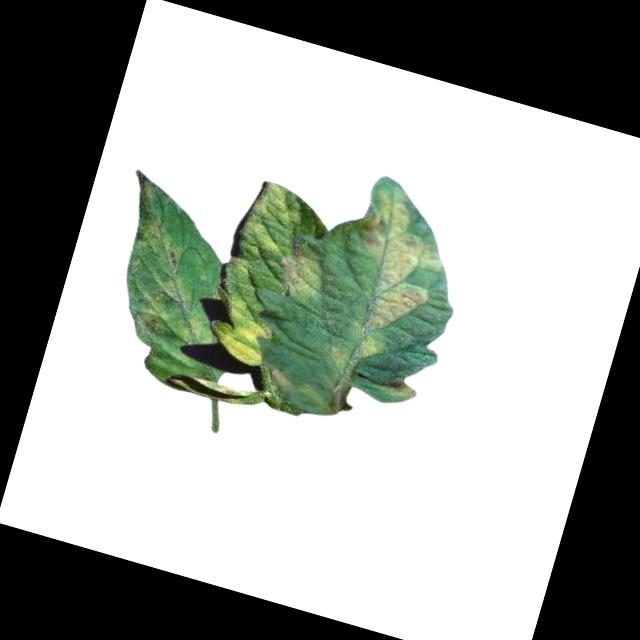Leaf_Mold: (89, 172, 246, 356), (329, 183, 460, 348), (235, 177, 307, 264), (203, 289, 279, 369), (321, 325, 385, 382), (274, 248, 333, 306), (385, 370, 422, 404)
